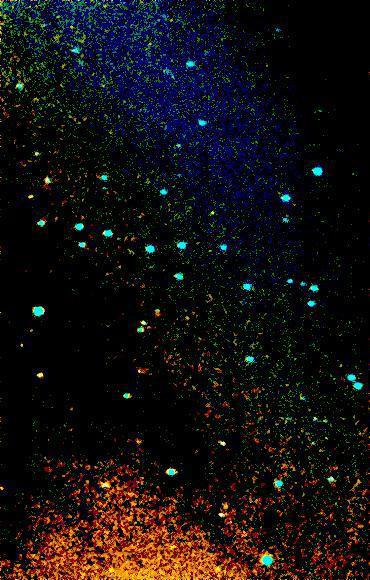star: (198, 198, 228, 228)
